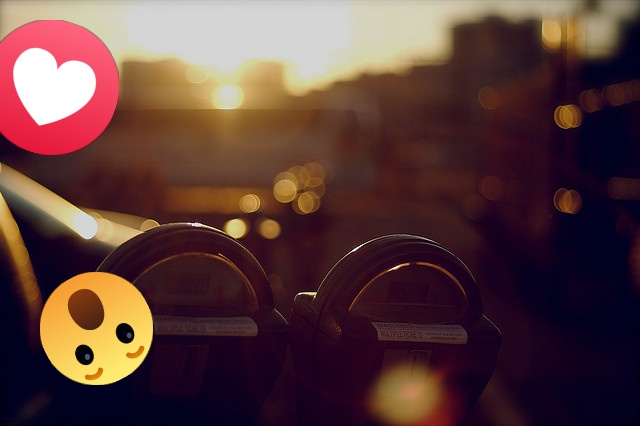love: (0, 20, 119, 155)
wow: (40, 272, 153, 385)
